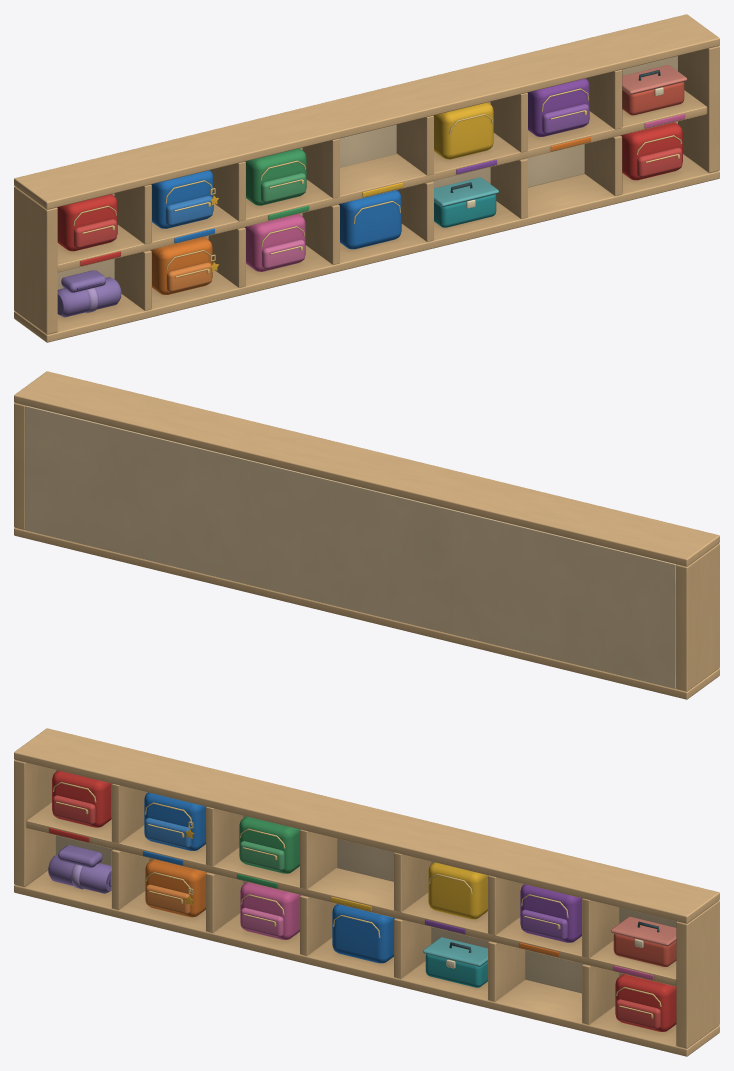
The model's file is backpack-cubby.fbx.
3 views of the same model, one above another, from view 1: azimuth 30°, elevation 25°; view 2: azimuth 150°, elevation 25°; view 3: azimuth 330°, elevation 25° (orthographic).
Parts seen in each view (by area): view 1: backpack-cubby; view 2: backpack-cubby; view 3: backpack-cubby.
Part boxes in pixels (x1,y1,x2,y2): backpack-cubby: [14, 14, 719, 342]; backpack-cubby: [14, 371, 719, 699]; backpack-cubby: [14, 728, 719, 1056].
Size of the model in its own units: 70000 by 14000 by 6000.
1 material, 1 textured.
